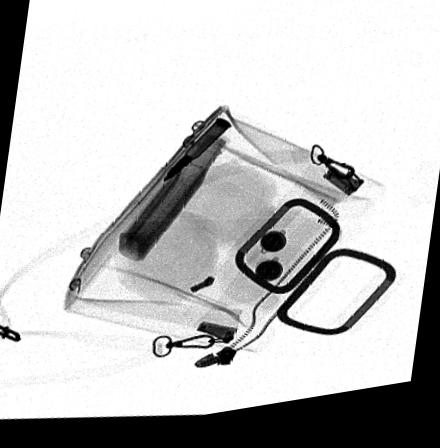Bullet: (161, 122, 231, 187)
